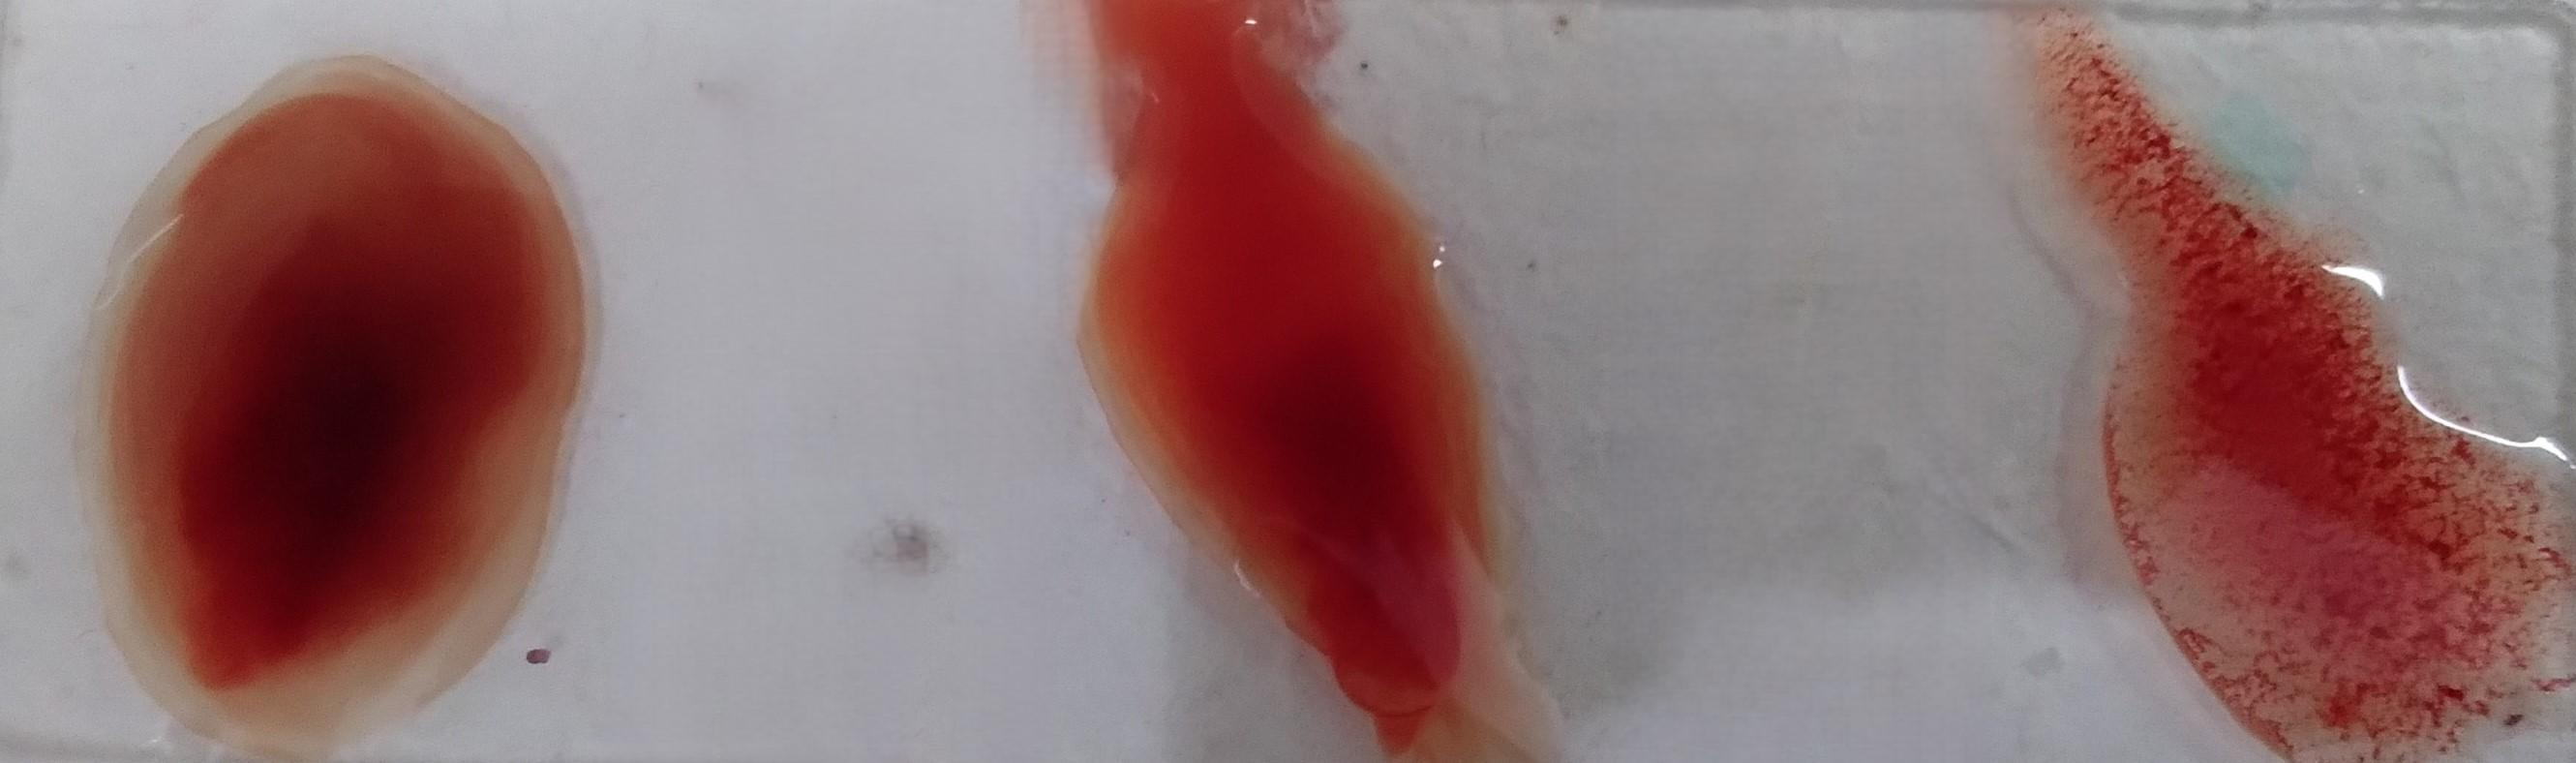D: (2045, 76, 2573, 763)
